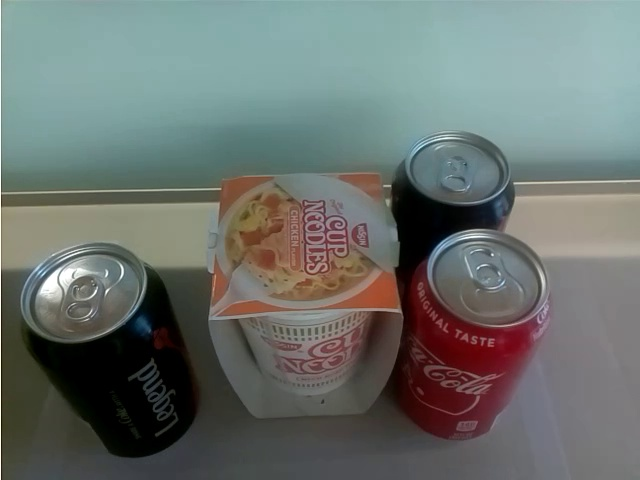cocacola: (407, 226, 552, 444)
cocacola-zero: (21, 235, 202, 461), (388, 129, 517, 235)
noodles: (200, 174, 401, 422)
